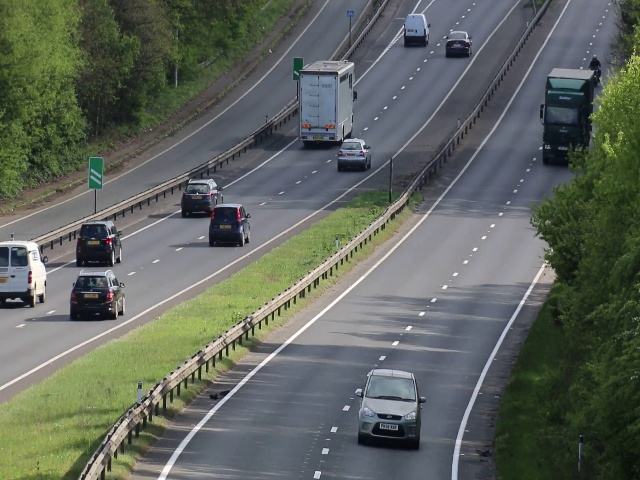car: (295, 57, 355, 146), (359, 367, 422, 448), (541, 73, 586, 168), (1, 239, 48, 305), (72, 270, 127, 322), (74, 220, 121, 265), (208, 203, 255, 245), (178, 177, 223, 217), (402, 11, 431, 51), (339, 139, 373, 169), (444, 29, 473, 60)
